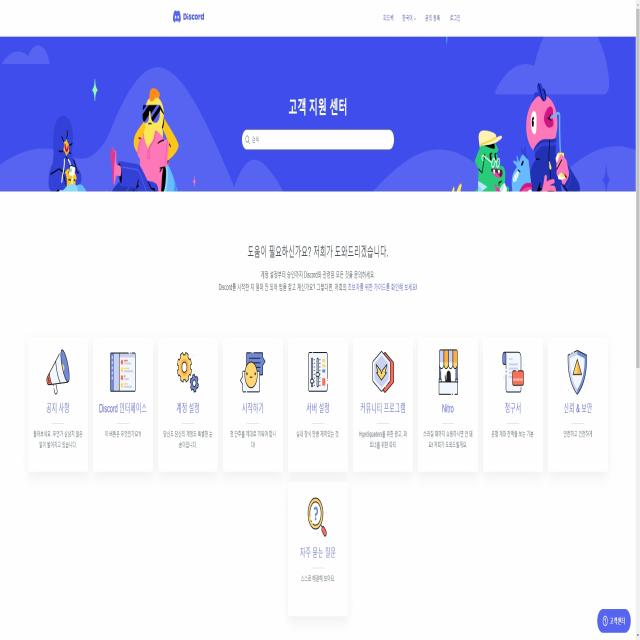menu-bar: (380, 10, 462, 29)
search: (241, 125, 396, 151)
